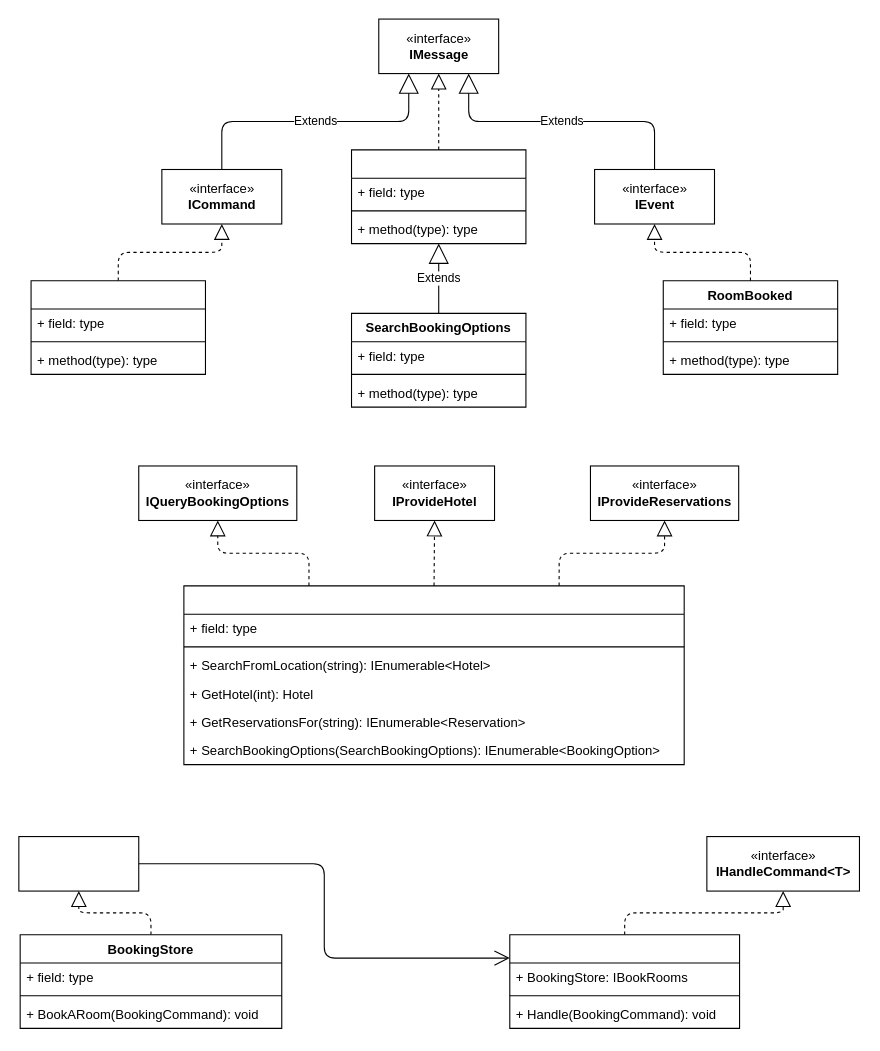
This 880x1051 diagram has some shape labels left out. Here are the shapes that lost their labels. From the top down, the box of each, then its label:
(350, 149, 526, 244): Query
(30, 280, 205, 374): BookingCommand
(183, 585, 684, 765): ReadModelFacade
(18, 835, 139, 891): «interface» IBookRooms
(509, 934, 740, 1028): WriteModelFacade
